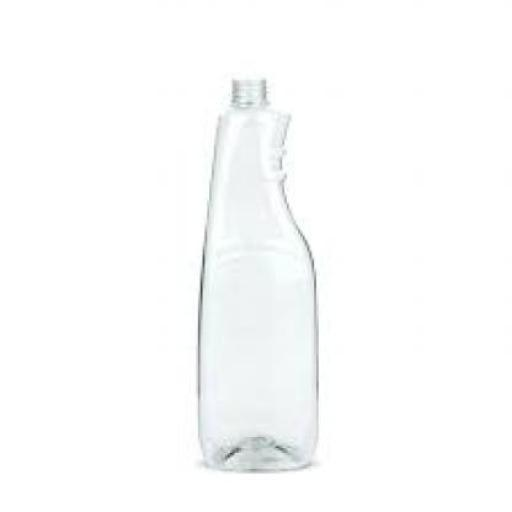glass: (200, 77, 321, 469)
